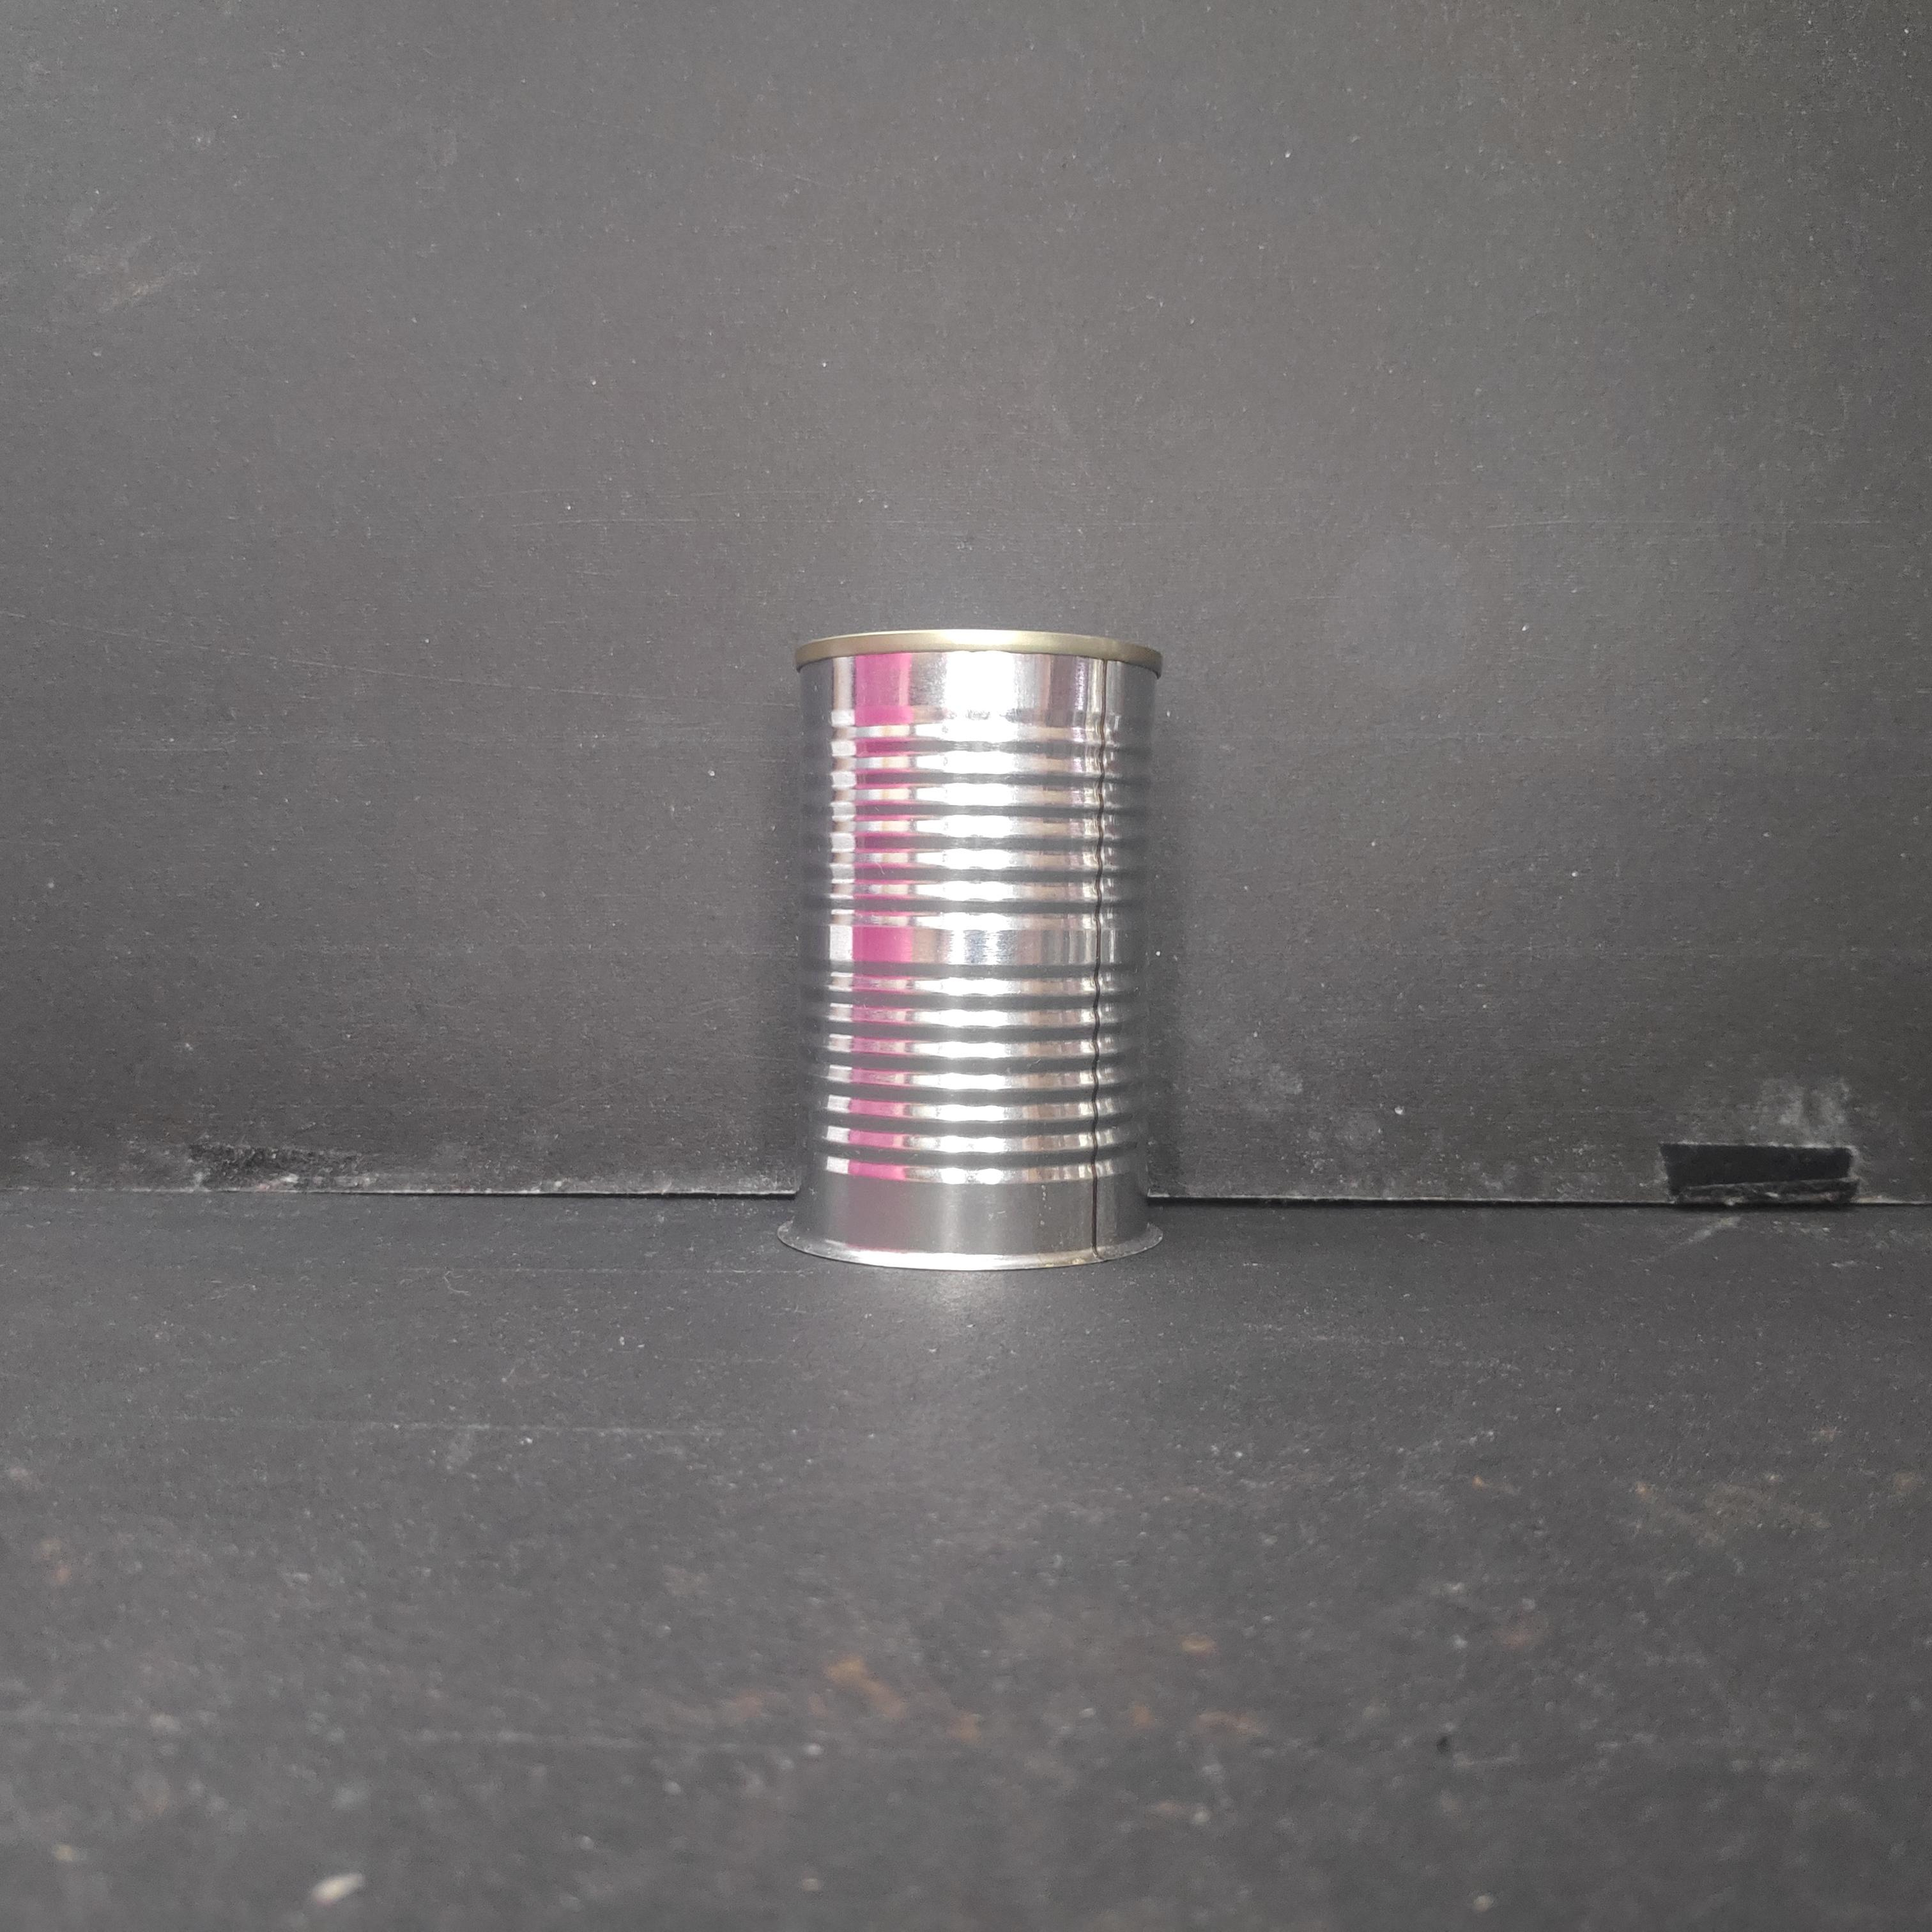No defect: (784, 621, 1177, 1277)
